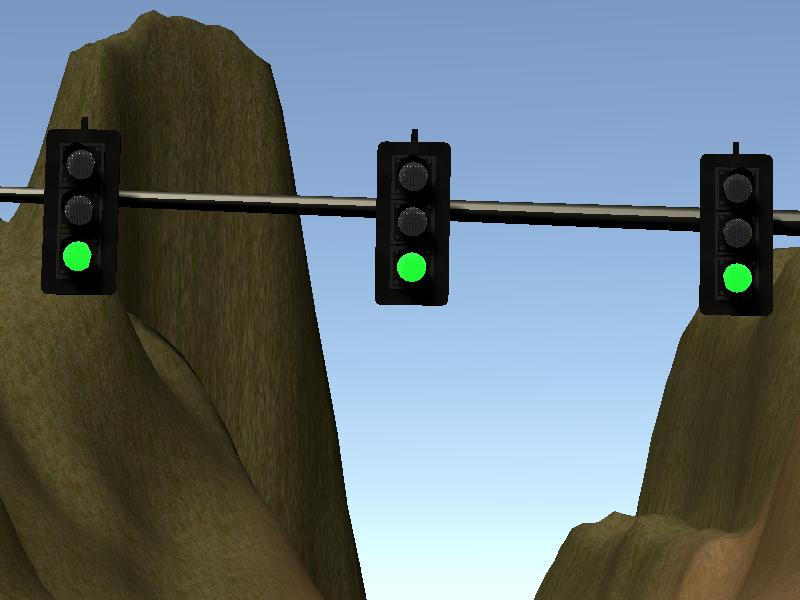Green: (699, 154, 772, 315), (378, 142, 449, 305), (46, 130, 112, 293)
